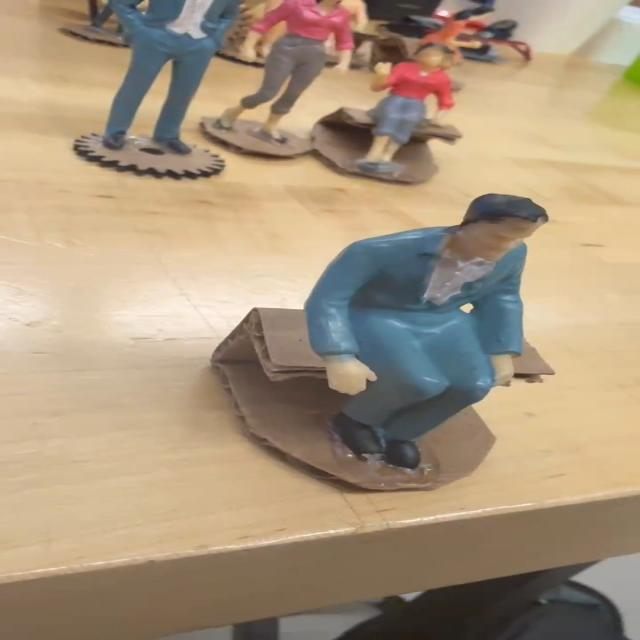Authorized: (218, 183, 640, 467)
